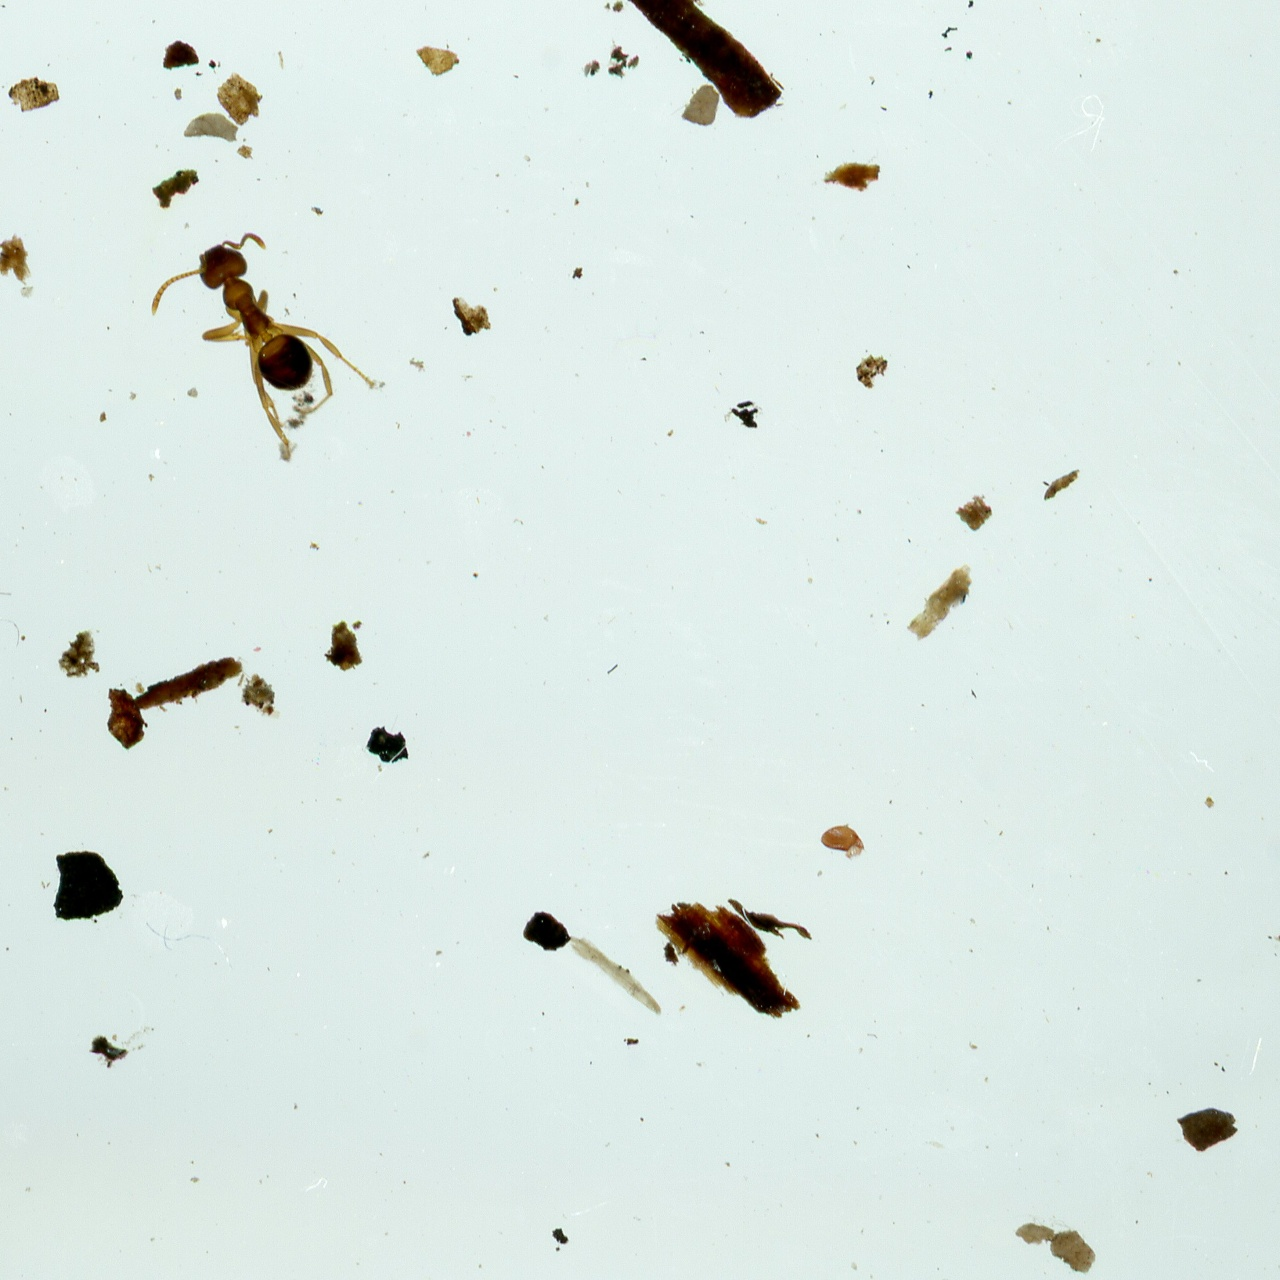arthropod: (128, 198, 399, 491), (819, 821, 867, 863)
